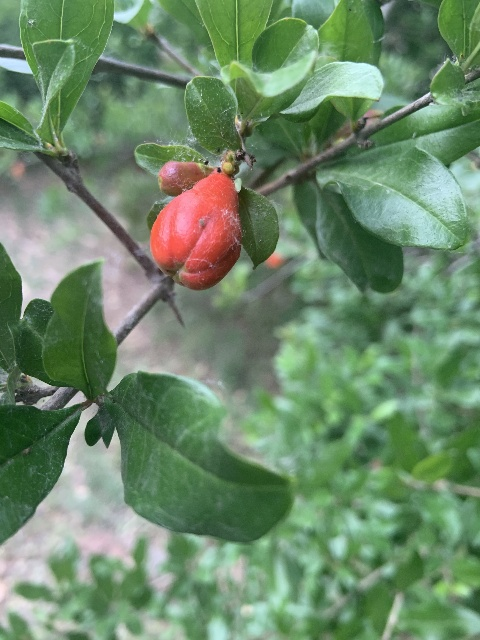bud: (150, 172, 242, 288), (158, 160, 206, 196)
